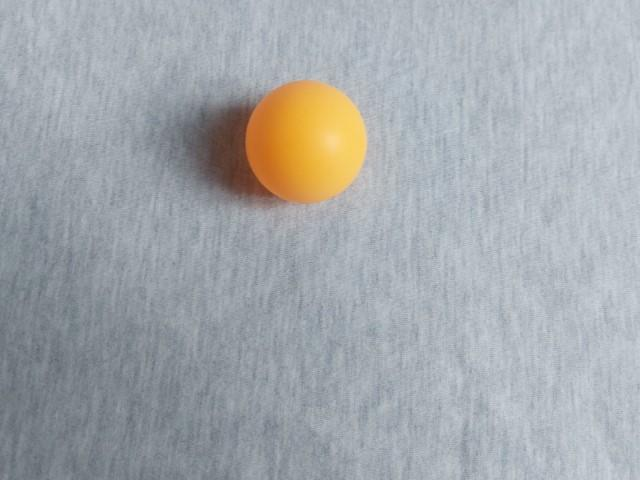oball: (261, 270, 403, 405)
